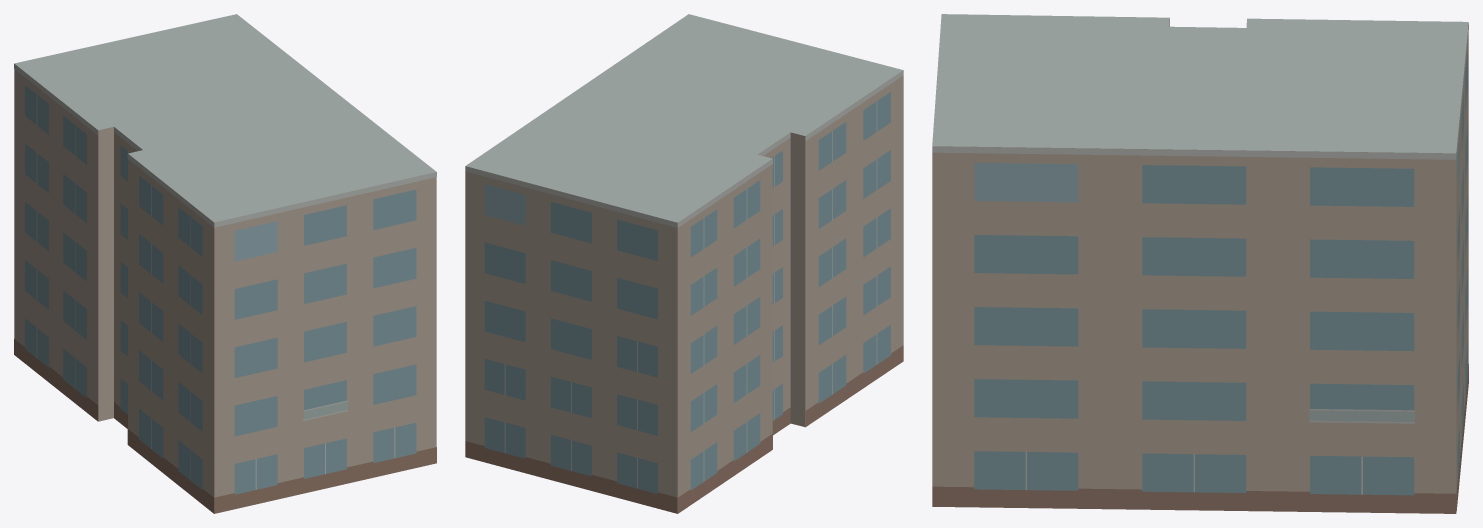
File: survey-upis-32653780.glb
3 renders of one model, left to right at view 1: azimuth 30°, elevation 25°; view 2: azimuth 150°, elevation 25°; view 3: azimuth 270°, elevation 25°, orthographic. The views are drawn at different scales.
Visible parts, largest first — view 1: survey-upis-32653780.tmp; view 2: survey-upis-32653780.tmp; view 3: survey-upis-32653780.tmp.
Boxes of the visible parts, x1,y1,x2,y2 form: survey-upis-32653780.tmp: [14, 14, 436, 513]; survey-upis-32653780.tmp: [465, 14, 903, 513]; survey-upis-32653780.tmp: [932, 14, 1468, 513].
Size of the model in its own units: 11.28 by 13.6 by 18.36.
